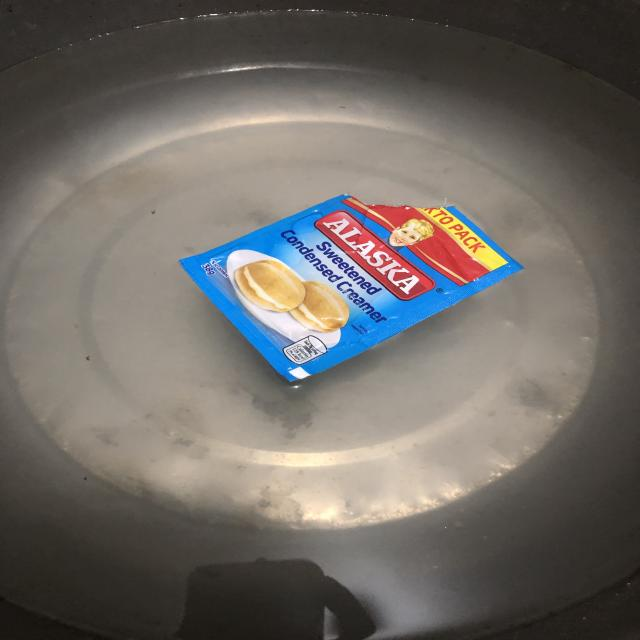Plastic Wrapper: (176, 199, 516, 387)
